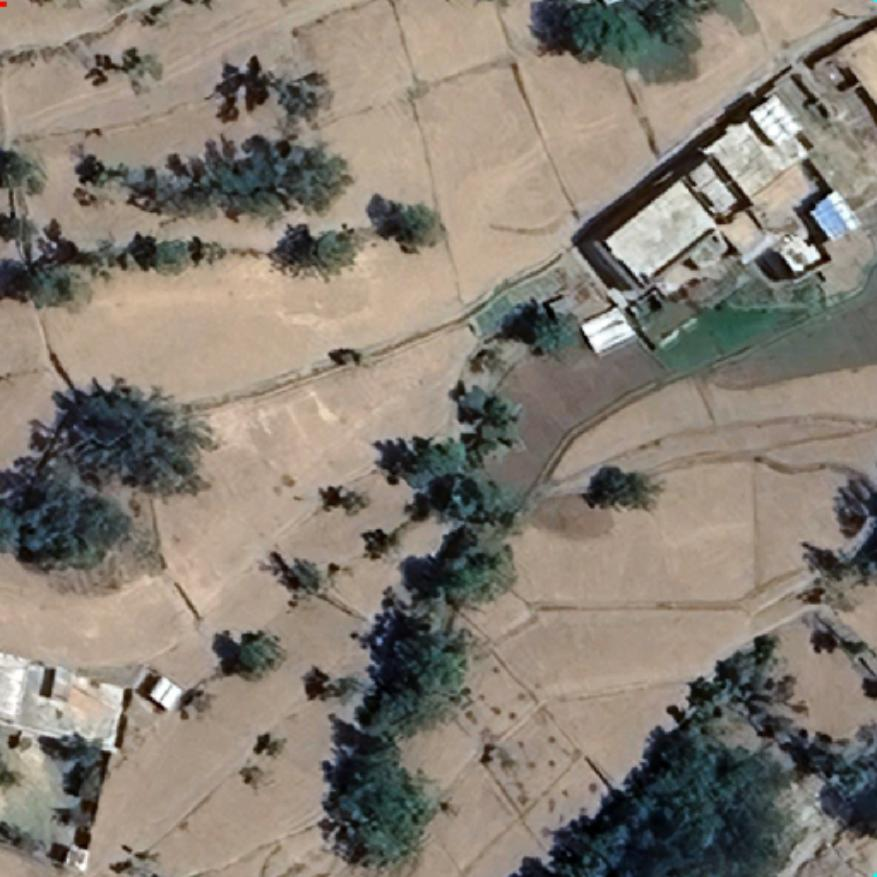Solarpanel: (803, 193, 855, 246)
